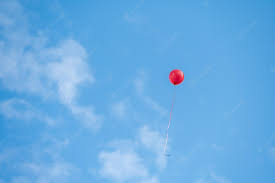Balloon: (168, 68, 185, 86)
